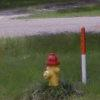Hydrant: (39, 40, 65, 92)
